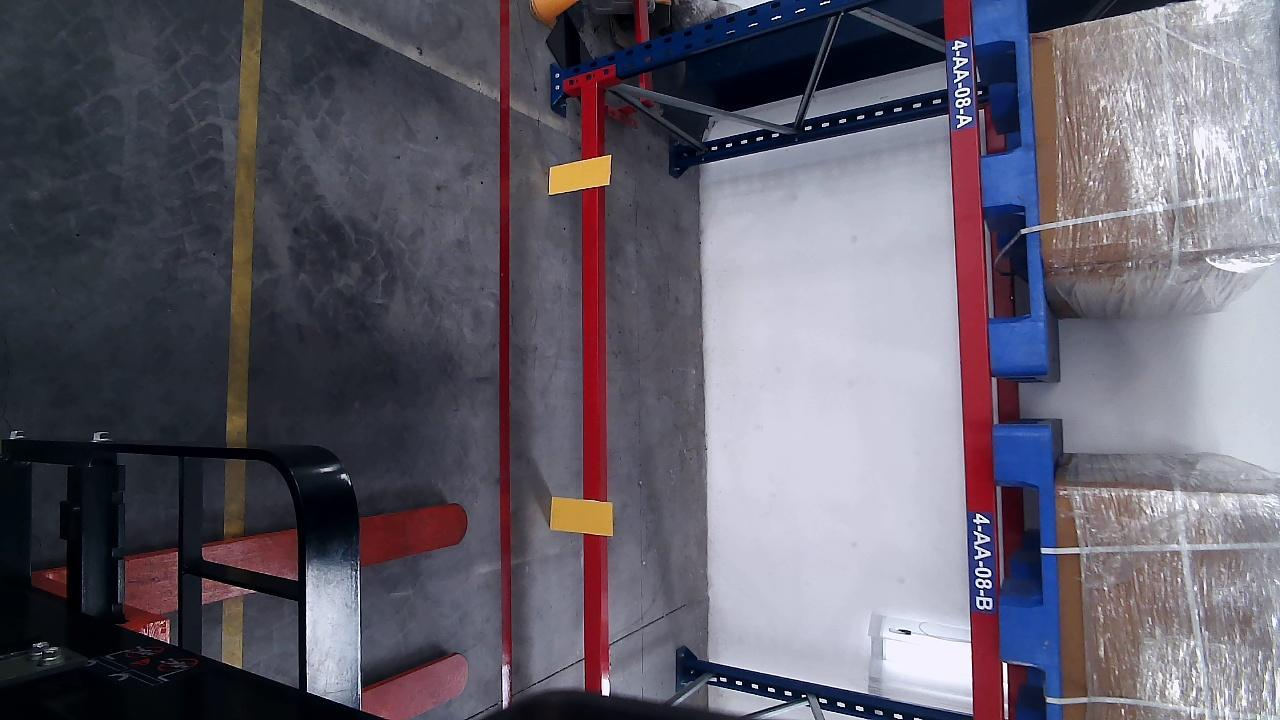h_rack: (941, 1, 1004, 719), (577, 84, 600, 691)
orange_strip: (548, 154, 612, 193), (549, 497, 612, 535)
red_line: (498, 1, 515, 711)
small_pallet: (969, 3, 1053, 370), (991, 430, 1066, 720)
yellow_line: (225, 0, 264, 443)
